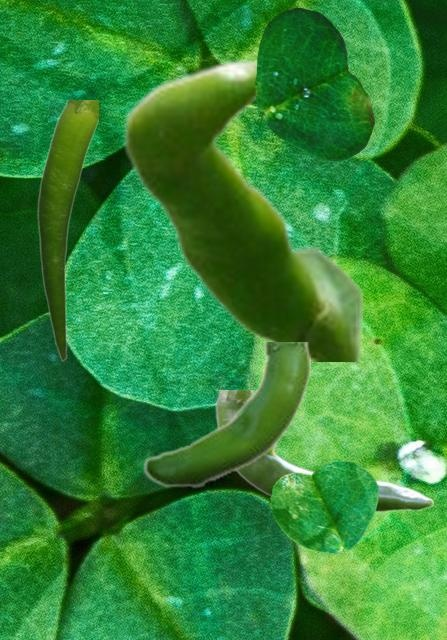green_chili: (122, 56, 361, 360), (215, 390, 432, 511), (142, 342, 309, 488), (37, 100, 97, 360)
